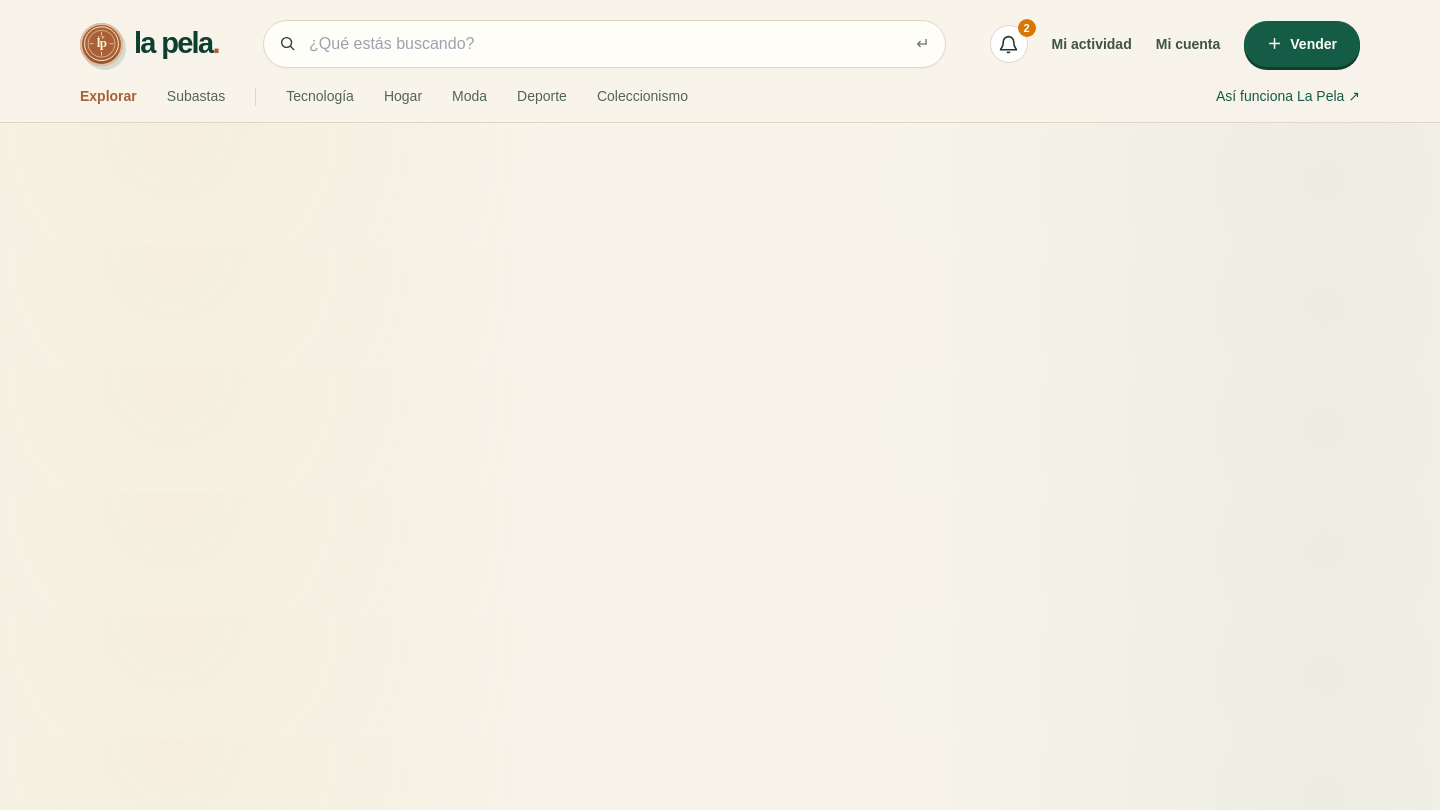
Header notifications › shows the bell, article link and contextual chat action
Click the button named "2 novedades sin leer" at (1009, 44), box [990,25,1028,63]
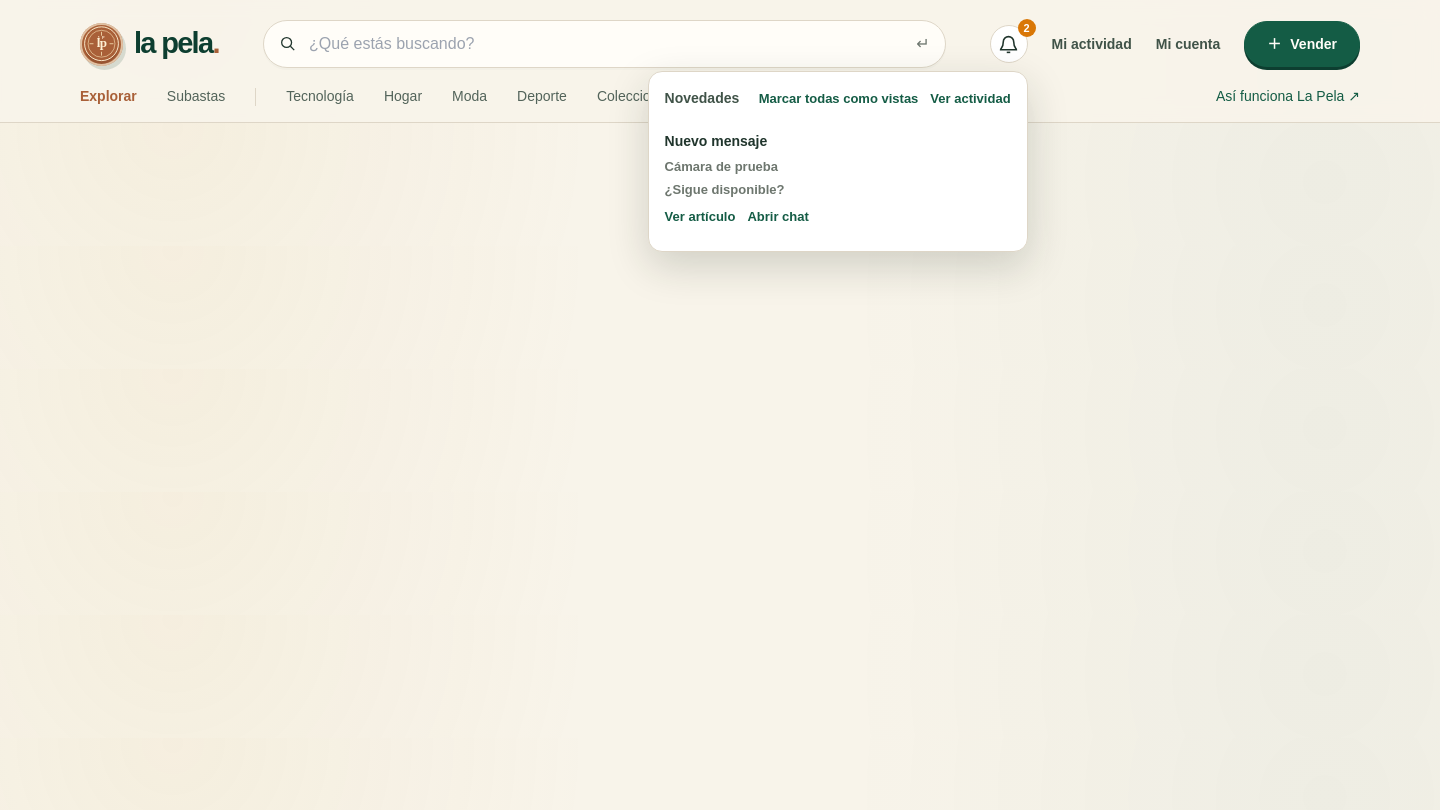
Result: the text "Nuevo mensaje" is shown at [665,133,767,149]
Press Escape
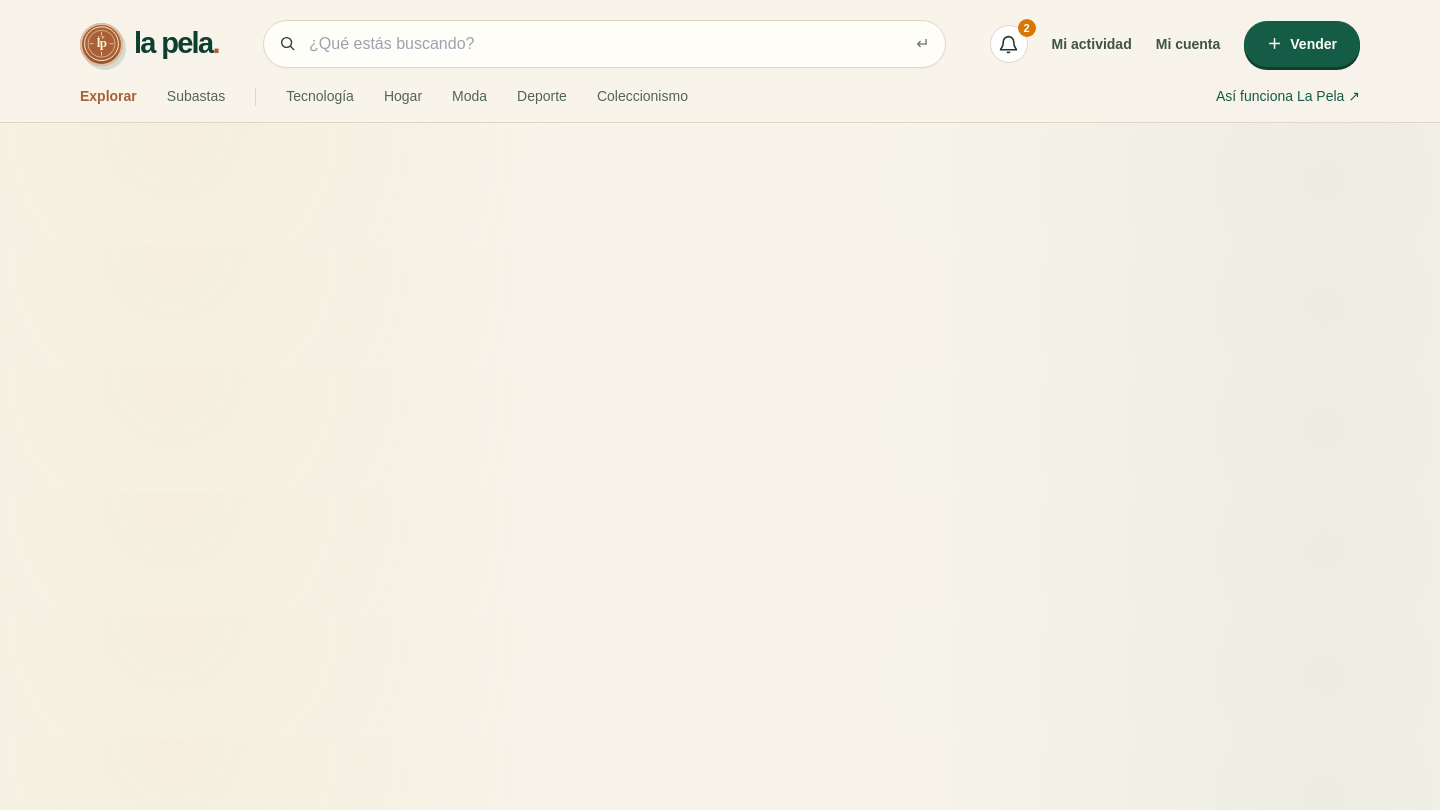
Result: the text "¿Sigue disponible?" is gone
